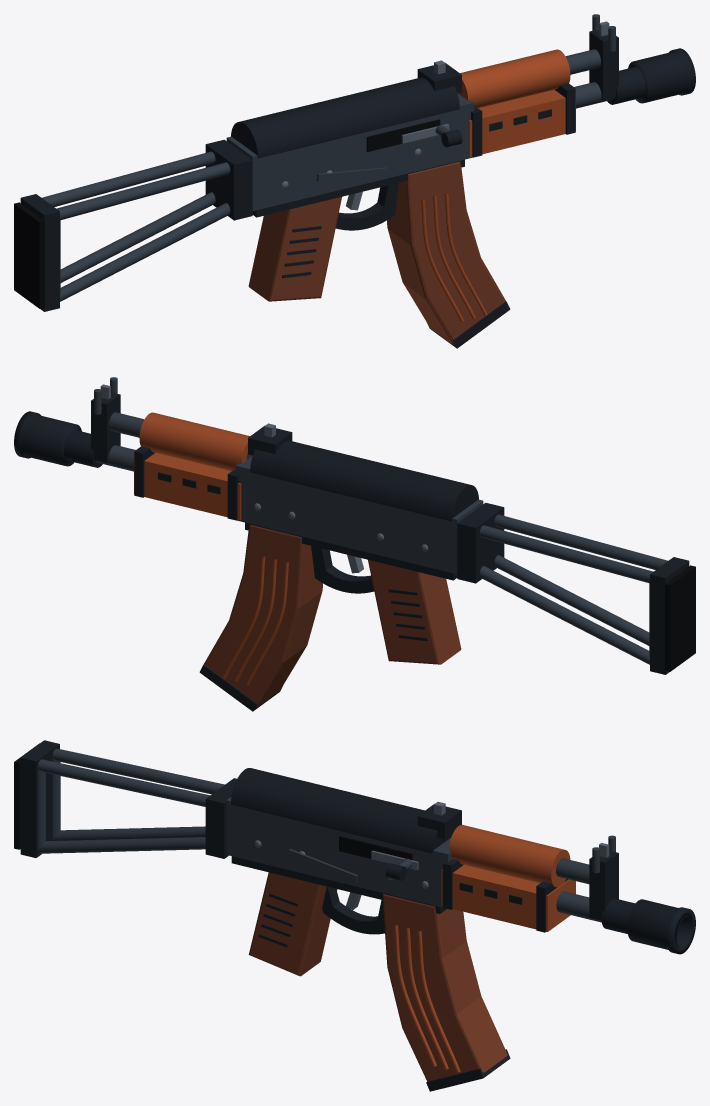
Rendered from ak74-style-rifle.glb.
The picture shows the model from 3 angles, top to bottom: view 1: azimuth 30°, elevation 25°; view 2: azimuth 150°, elevation 25°; view 3: azimuth 330°, elevation 25°; orthographic projection.
Visible parts, largest first — view 1: Magazine, Receiver, Rounded top cover, Pistol grip, Lower stock rail (×2), Upper stock rail (×2), Upper handguard, Lower handguard, Buttpad, Stock hinge, Muzzle shroud, Buttplate (+12 smaller); view 2: Receiver, Magazine, Rounded top cover, Pistol grip, Lower stock rail (×2), Upper stock rail (×2), Upper handguard, Lower handguard, Buttpad, Stock hinge, Muzzle shroud, Buttplate (+10 smaller); view 3: Magazine, Receiver, Rounded top cover, Pistol grip, Lower handguard, Upper stock rail (×2), Upper handguard, Lower stock rail (×2), Muzzle shroud, Buttplate, Magazine rib (×3), Stock hinge (+13 smaller).
Boxes of the visible parts, x1,y1,x2,y2 form: Magazine: [387, 161, 505, 344]; Receiver: [226, 93, 473, 210]; Rounded top cover: [231, 77, 459, 158]; Pistol grip: [248, 197, 341, 301]; Lower stock rail (×2): [60, 192, 230, 301]; Upper stock rail (×2): [42, 151, 230, 219]; Upper handguard: [458, 49, 570, 108]; Lower handguard: [468, 89, 575, 157]; Buttpad: [14, 202, 44, 308]; Stock hinge: [205, 139, 252, 220]; Muzzle shroud: [628, 48, 695, 103]; Buttplate: [20, 194, 59, 311]; Receiver: [236, 456, 483, 573]; Magazine: [204, 524, 322, 707]; Rounded top cover: [250, 440, 478, 521]; Pistol grip: [368, 560, 461, 664]; Lower stock rail (×2): [479, 555, 649, 664]; Upper stock rail (×2): [479, 514, 667, 582]; Upper handguard: [139, 412, 249, 471]; Lower handguard: [134, 452, 241, 520]; Buttpad: [665, 565, 695, 671]; Stock hinge: [457, 502, 504, 583]; Muzzle shroud: [14, 411, 81, 466]; Buttplate: [650, 557, 689, 674]; Magazine: [383, 894, 507, 1081]; Receiver: [226, 797, 452, 907]; Rounded top cover: [231, 768, 452, 853]; Pistol grip: [248, 872, 337, 976]; Lower handguard: [441, 865, 575, 931]; Upper stock rail (×2): [37, 748, 224, 806]; Upper handguard: [449, 824, 570, 887]; Lower stock rail (×2): [37, 826, 205, 853]; Muzzle shroud: [627, 899, 695, 954]; Buttplate: [20, 740, 59, 857]; Magazine rib (×3): [394, 925, 460, 1072]; Stock hinge: [205, 778, 236, 858].
Size of the model in its own units: 6.68 by 2.7 by 0.825.
